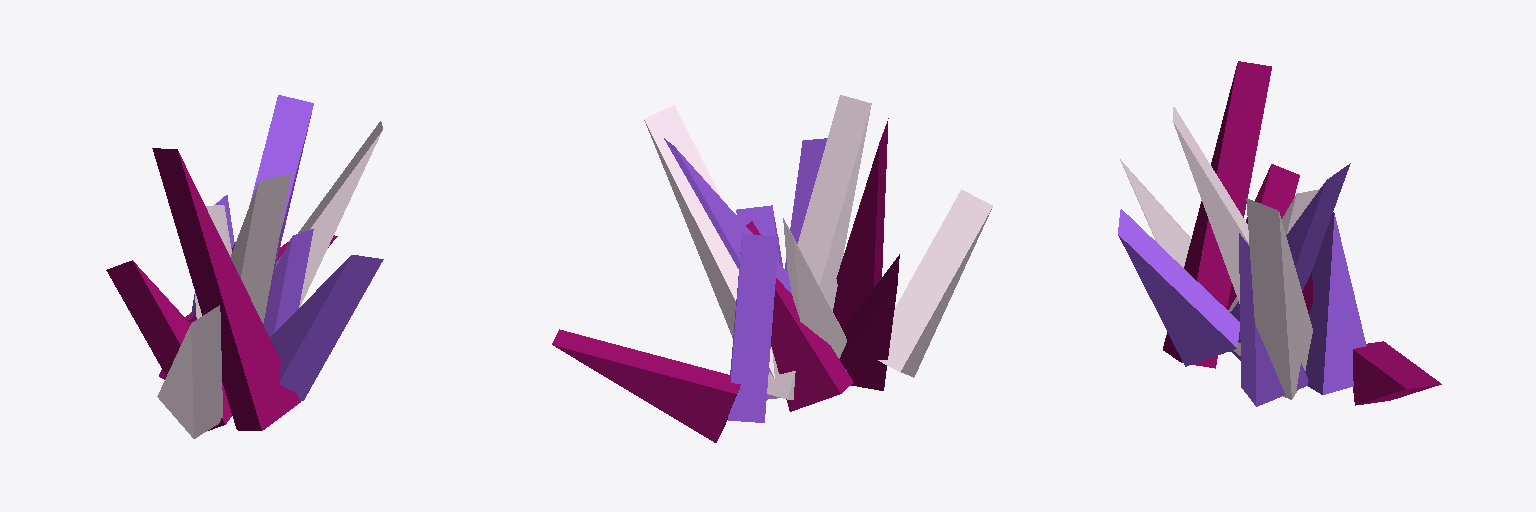
File: Prism2.obj
3 renders of one model, left to right at view 1: azimuth 30°, elevation 25°; view 2: azimuth 150°, elevation 25°; view 3: azimuth 270°, elevation 25°, orthographic.
Parts seen in each view (by area): view 1: Prism2; view 2: Prism2; view 3: Prism2.
Part boxes in pixels (bbox=[...]): Prism2: bbox=[106, 95, 383, 438]; Prism2: bbox=[552, 95, 992, 442]; Prism2: bbox=[1118, 61, 1441, 406].
Bounding box in the file's own units: 0.729 × 0.703 × 0.7063.